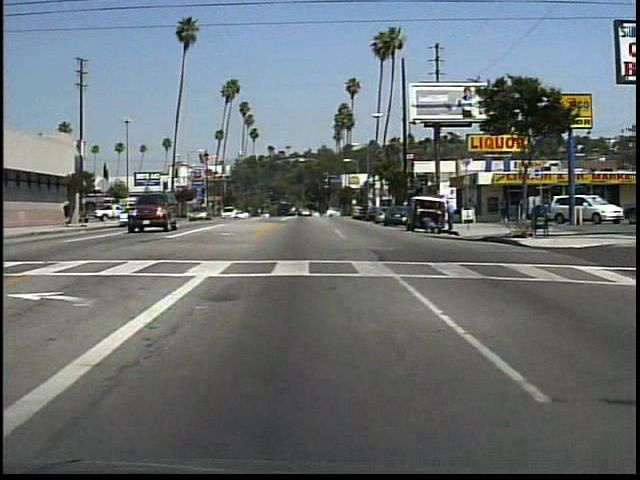person: (443, 197, 460, 235), (493, 191, 509, 223), (418, 215, 436, 234), (65, 199, 74, 227)
